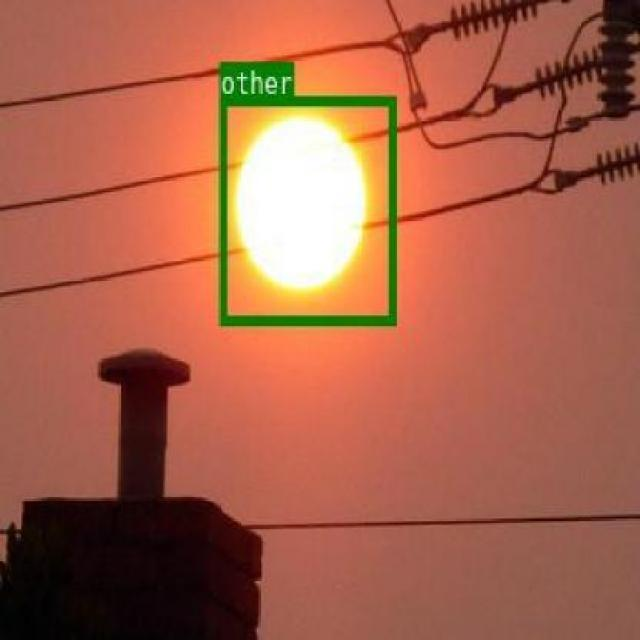Smoke: (218, 94, 396, 323)
